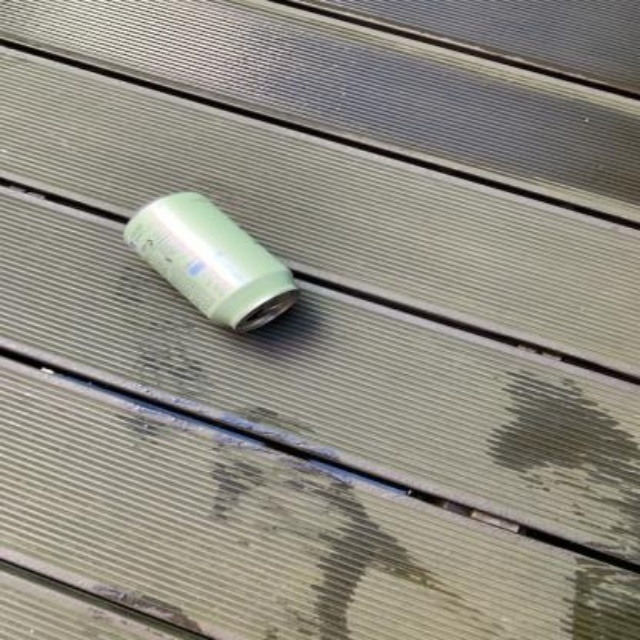trash: (123, 192, 294, 331)
